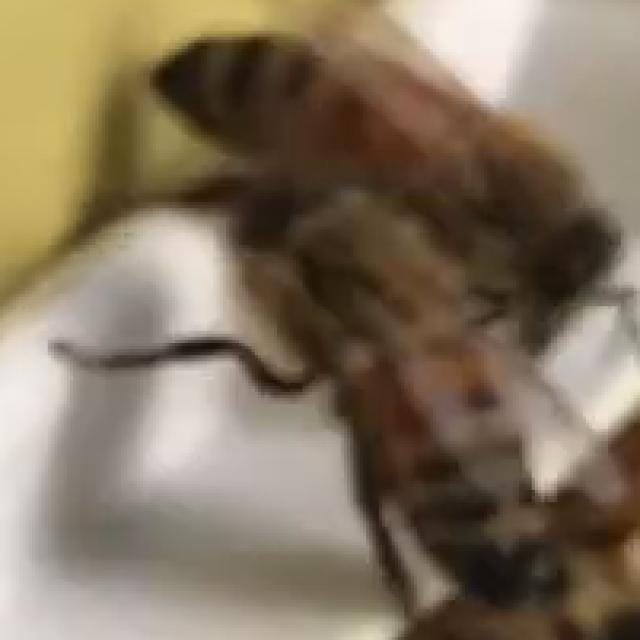honeybee: (235, 177, 640, 640), (167, 16, 640, 335)
